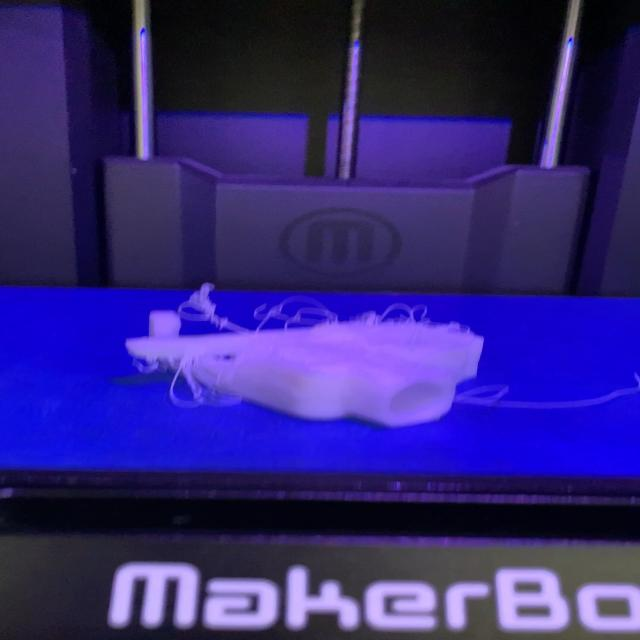spaghetti: (124, 283, 486, 428)
